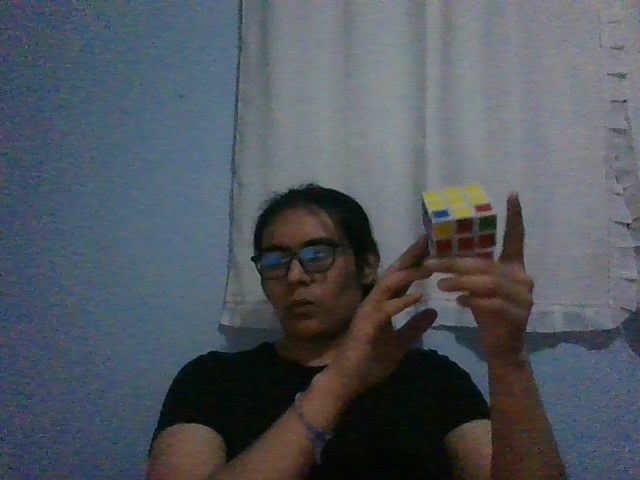rubik: (421, 183, 498, 261)
